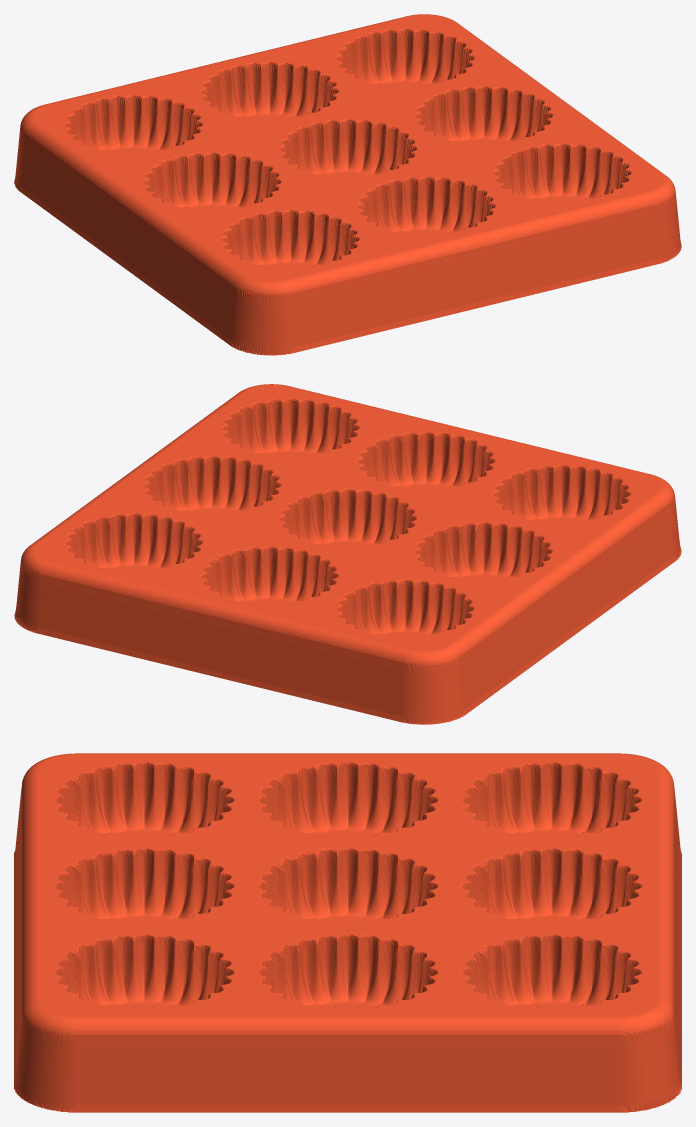
The model's file is mold.glb.
3 renders of one model, top to bottom at view 1: azimuth 30°, elevation 25°; view 2: azimuth 150°, elevation 25°; view 3: azimuth 270°, elevation 25°, orthographic. The views are drawn at different scales.
Parts seen in each view (by area): view 1: geometry_0; view 2: geometry_0; view 3: geometry_0.
Part boxes in pixels (x1,y1,x2,y2): geometry_0: [14, 14, 681, 355]; geometry_0: [14, 384, 681, 724]; geometry_0: [14, 753, 681, 1112].
Bounding box in the file's own units: 0.0964 × 0.0136 × 0.0964.
